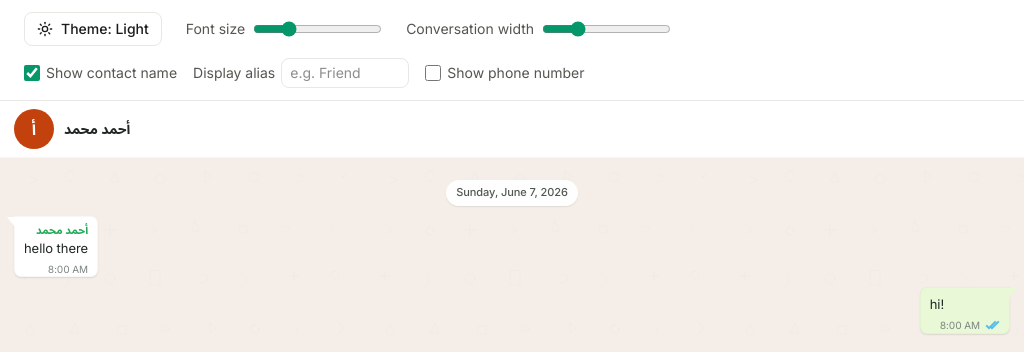
it: PreviewToolbar — real-time privacy (US6, FR-020/FR-021) › replaces the contact name with the alias everywhere
Expected: the text "hello there" is shown, left=24, top=239, right=88, bottom=258
Type "Friend" into the field labelled "Display alias" at (345, 73), box left=281, top=58, right=409, bottom=88
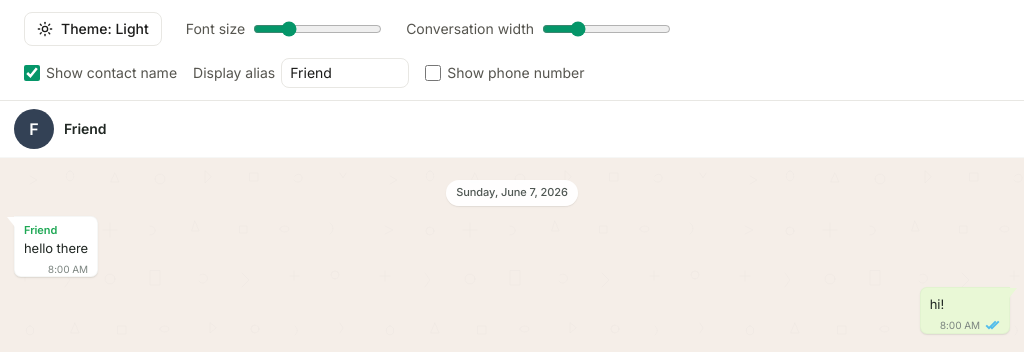
Result: the text "أحمد محمد" is gone
Result: the 1st text "Friend" is shown at left=64, top=119, right=106, bottom=139
